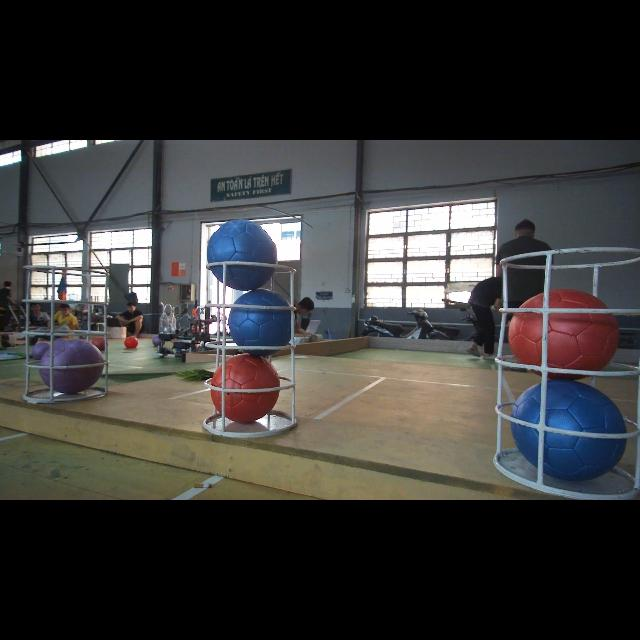B: (512, 376, 630, 484), (205, 215, 281, 293), (226, 292, 294, 352)
R: (509, 286, 619, 382), (212, 351, 280, 421)
